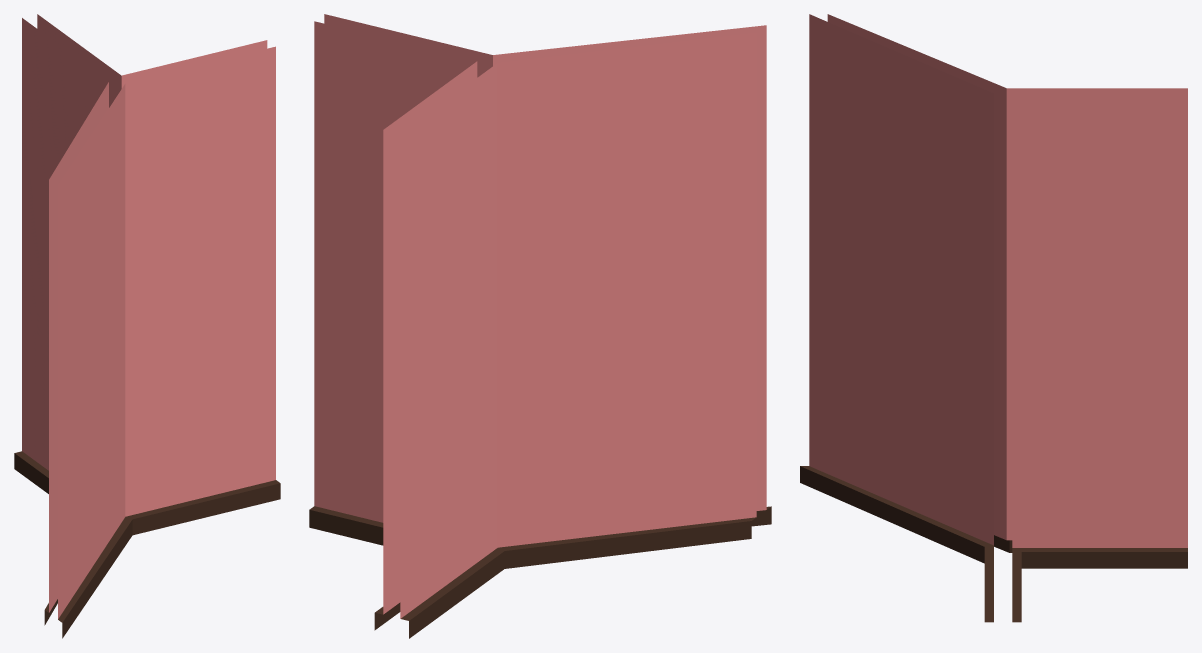
Rendered from SM_Y_Gauche.fbx.
3 views of the same model, side by side, from view 1: azimuth 30°, elevation 25°; view 2: azimuth 150°, elevation 25°; view 3: azimuth 270°, elevation 25° (orthographic). The views are drawn at different scales.
Visible parts, largest first — view 1: SM_Y_Gauche; view 2: SM_Y_Gauche; view 3: SM_Y_Gauche.
Boxes of the visible parts, x1,y1,x2,y2 form: SM_Y_Gauche: (14, 14, 280, 638); SM_Y_Gauche: (309, 14, 771, 638); SM_Y_Gauche: (800, 14, 1187, 622).
Bounding box in the file's own units: 2 × 2.8 × 2.1.
